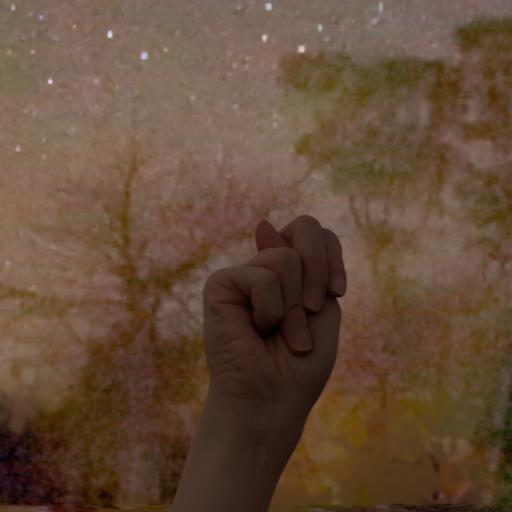N: (165, 198, 380, 436)
